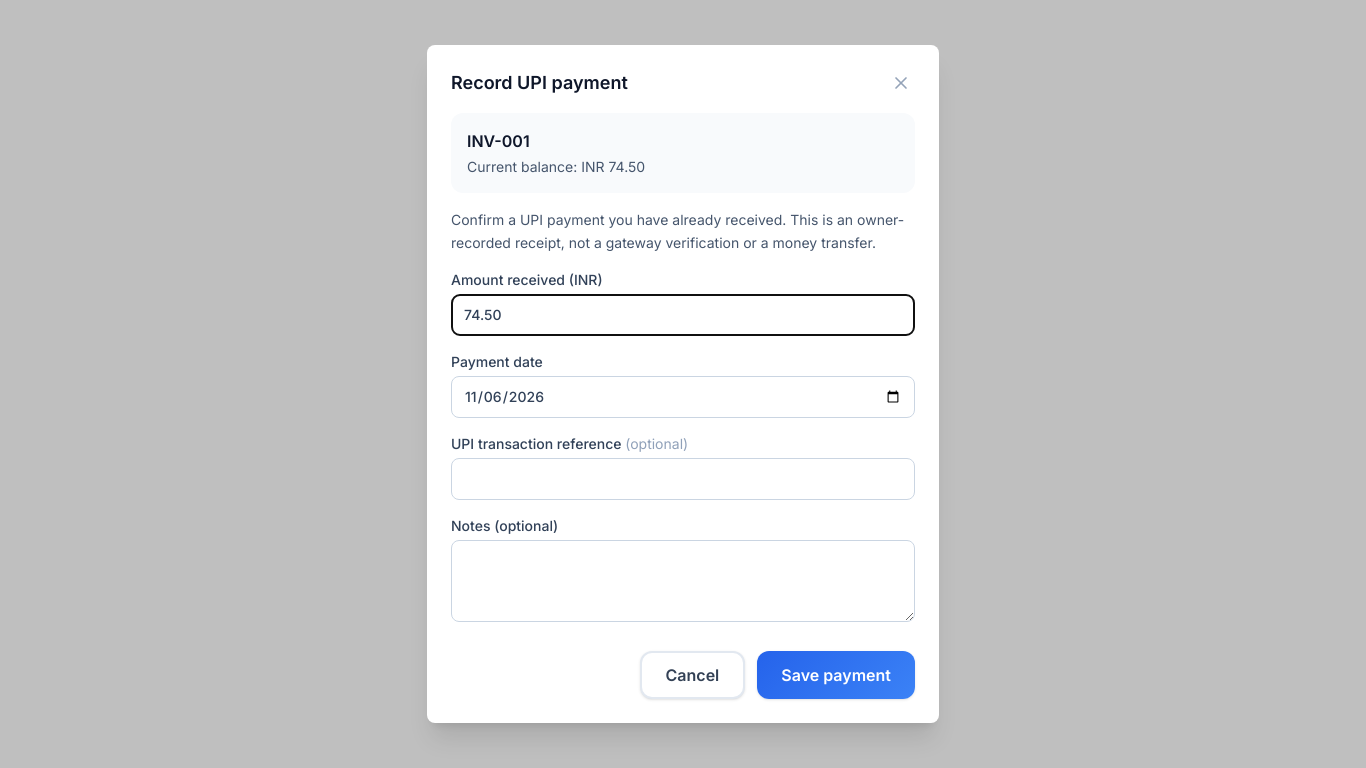
Test: Payment forms › rejects invalid INR input -1
The image size is (1366, 768).
Replace the text in the field labelled "Amount received (INR)" with "-1" at [683, 315], box 451,294 -> 915,336
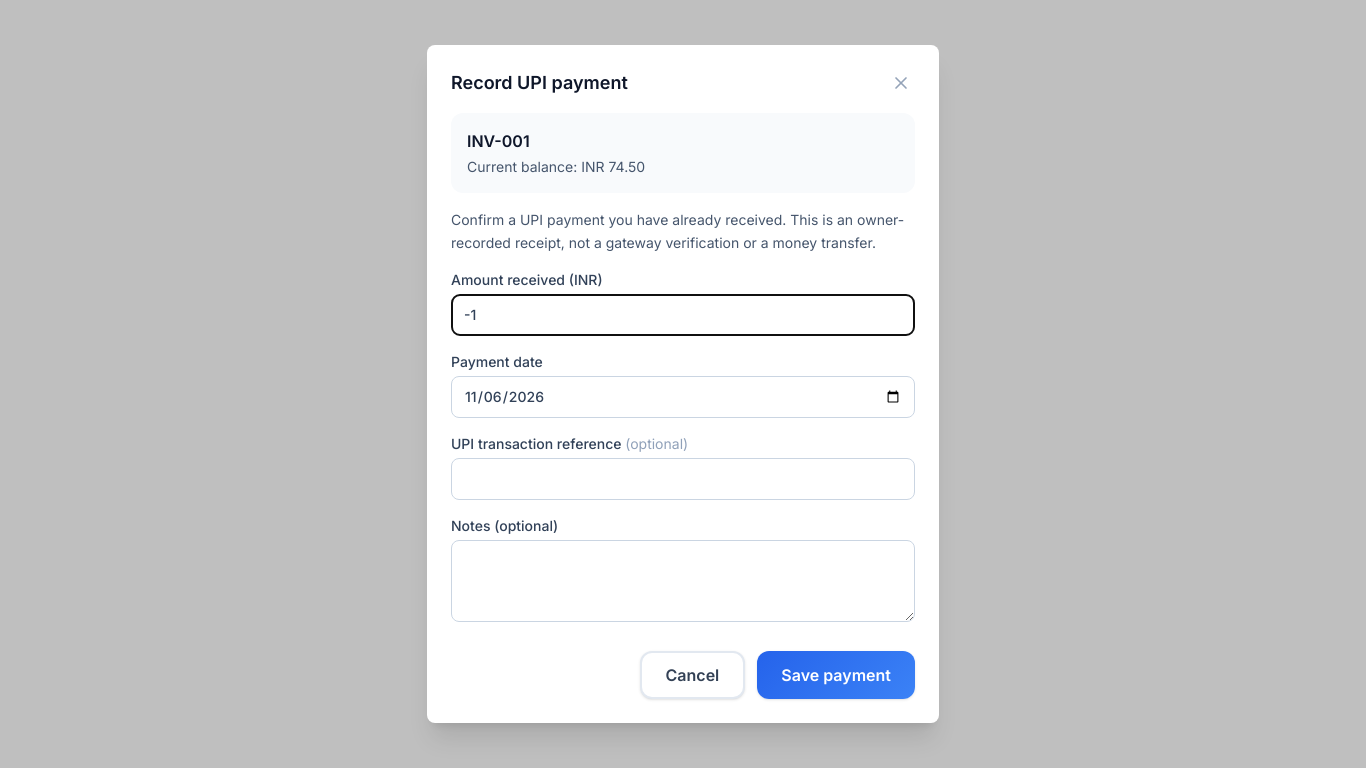
Click the button "Save payment" at [836, 675], box 757,651 -> 915,699
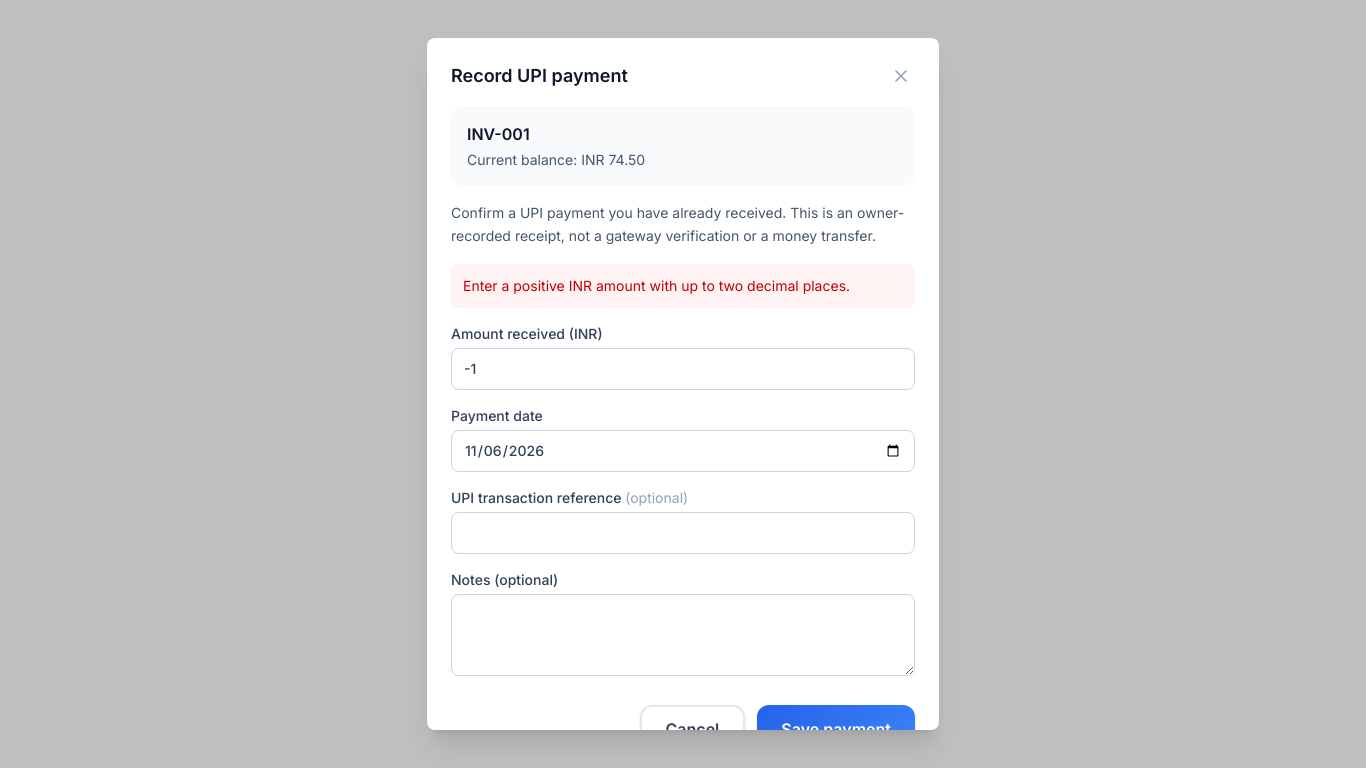
Now the message shows "positive INR amount", box 463,277 -> 850,294
